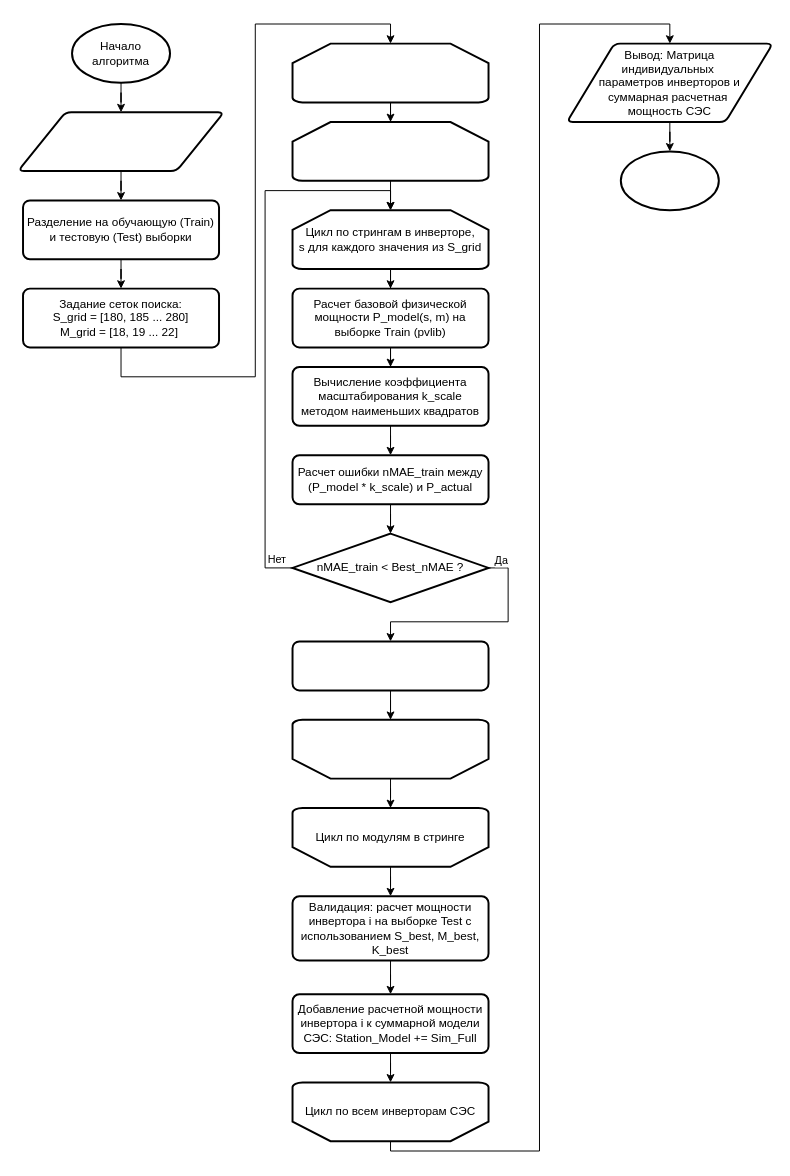
The diagram is 790 pixels wide and 1176 high, and some of its shapes have lost their labels. Each missing label, with the box of its shape:
Ввод: временные ряды погоды и телеметрии: (17, 111, 224, 172)
Конец алгоритма: (619, 150, 719, 211)
Сохранение оптимальных параметров: S_best = s, M_best = m, K_best = k_scale: (291, 640, 489, 691)
Цикл по всем инверторам СЭС, i от 1 до N: (291, 42, 489, 103)
Цикл по модулям в стринге, m для каждого значения из M_grid: (291, 121, 489, 181)
Цикл по стрингам в инверторе: (291, 718, 489, 779)
